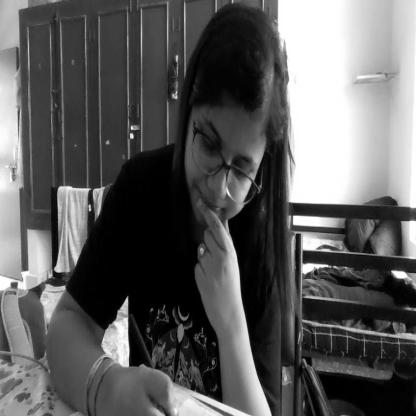Distracted: (175, 1, 290, 242)
